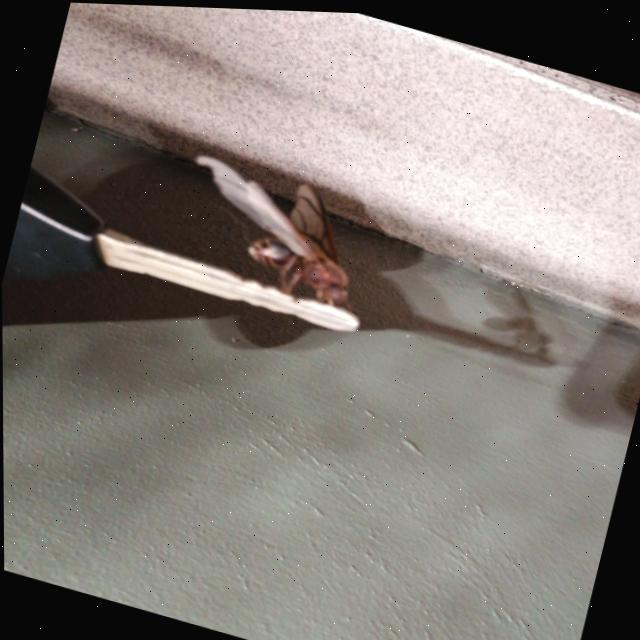Alive-Female-Alate: (169, 150, 381, 312)
